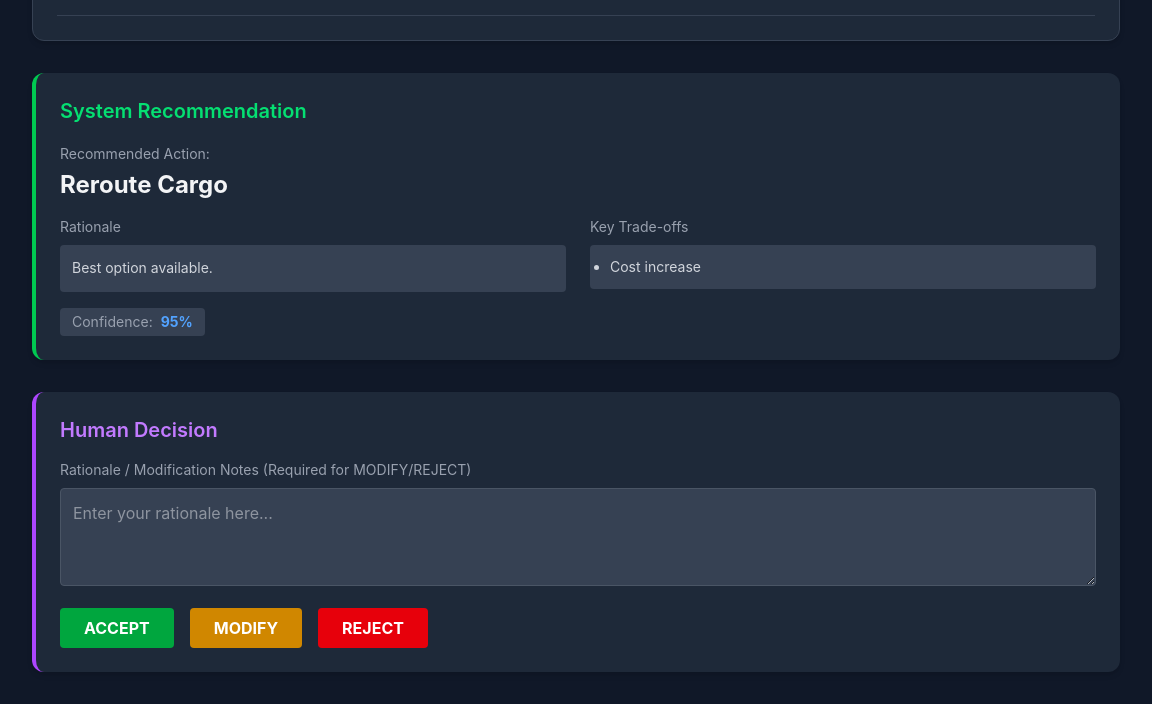
Test: DecisionWorkspace Page › enforces rationale for REJECT and MODIFY
(page scrolled)
Expected: the heading "Human Decision" is shown, top-left (60, 418), bottom-right (218, 442)
// Try to reject without rationale
Click the button "REJECT".
click(373, 628)  # box top-left (318, 608), bottom-right (428, 648)
(page scrolled)
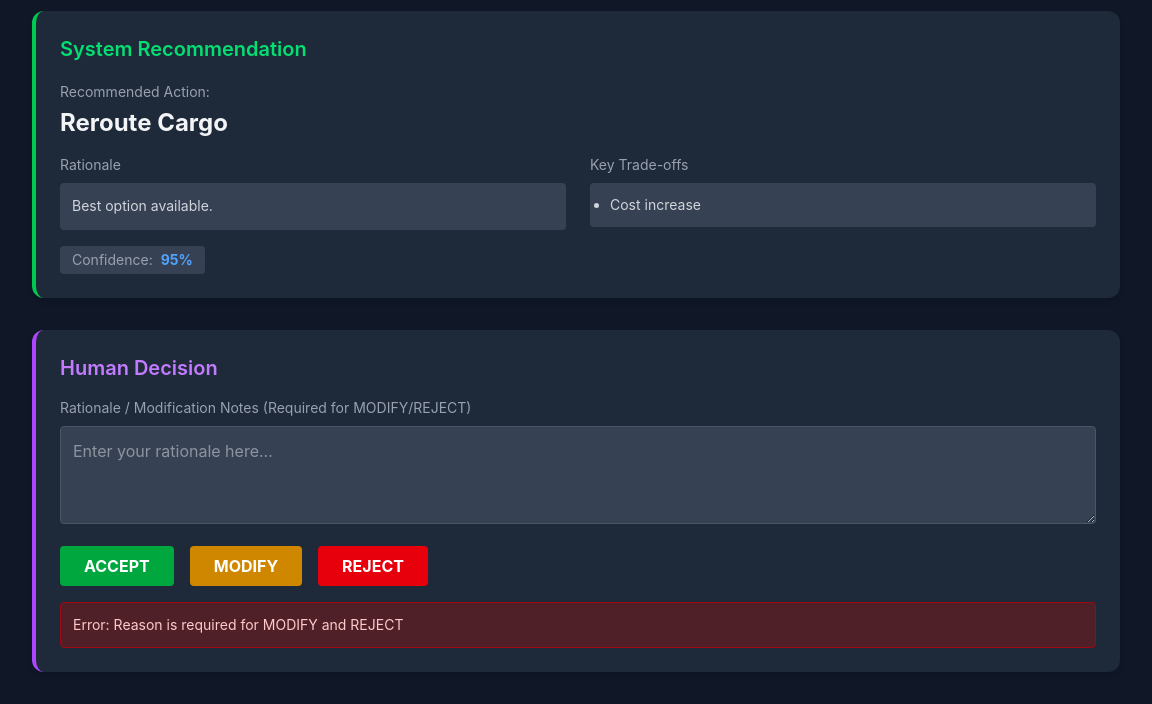
Now the text "Error: Reason is required for MODIFY and REJECT" is shown, box top-left (60, 602), bottom-right (1096, 648)
